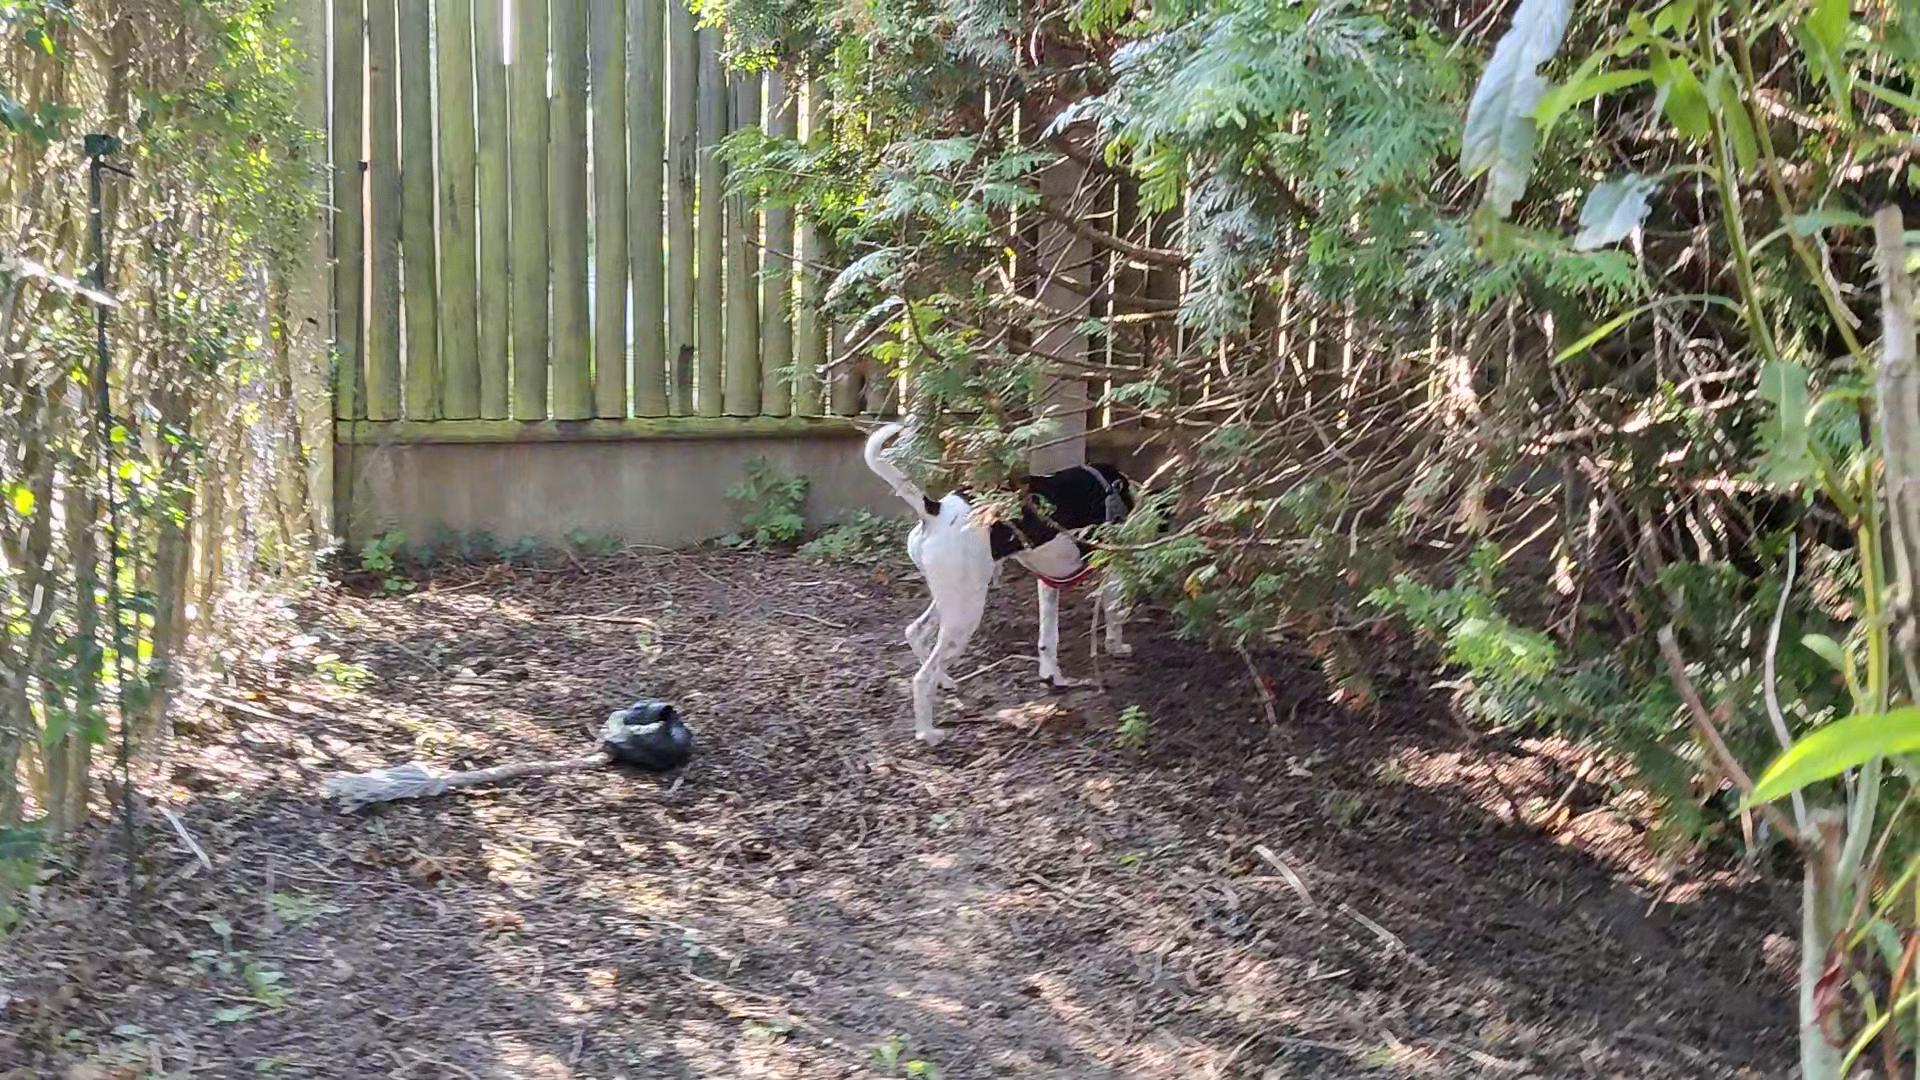Dog: (844, 404, 1193, 746)
